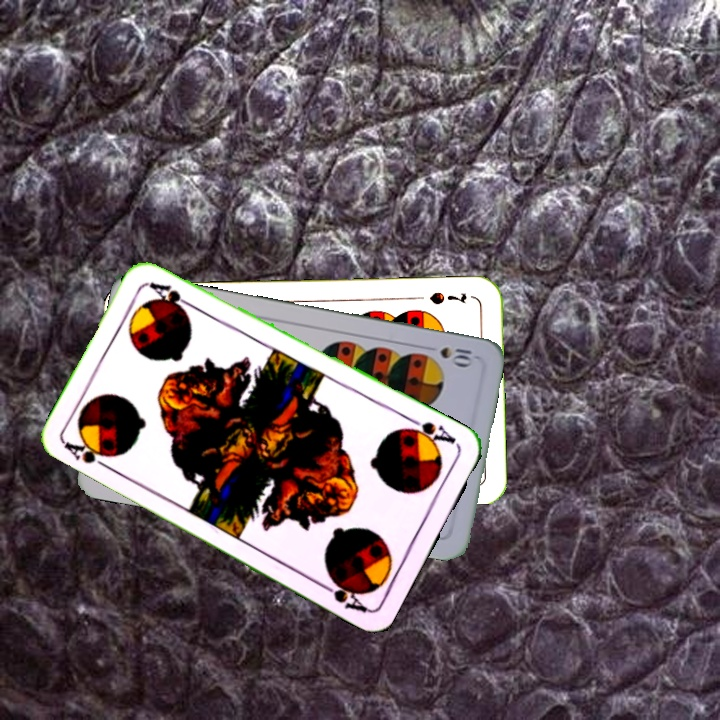S10: (420, 341, 479, 368)
S7: (425, 288, 470, 307)
SA: (400, 413, 459, 449), (60, 437, 116, 474)
